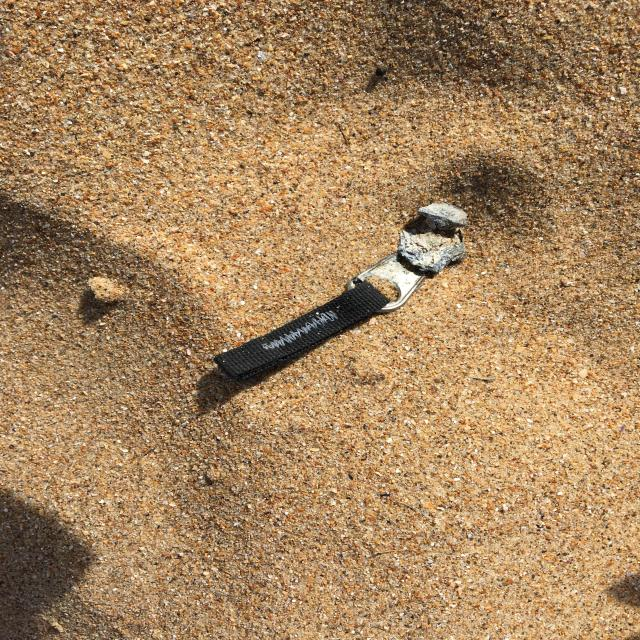litter: (195, 198, 463, 383)
